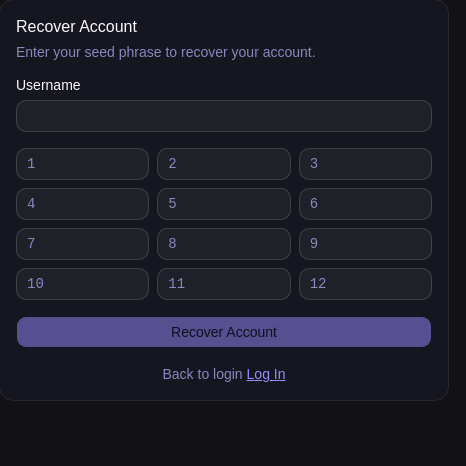
Test: RecoverPage › step 1 submit with wrong mnemonic shows error below MnemonicInput
Type "testuser" into the field labelled "Username".
click(224, 116); type("testuser")  # box x1=16 y1=100 x2=432 y2=132
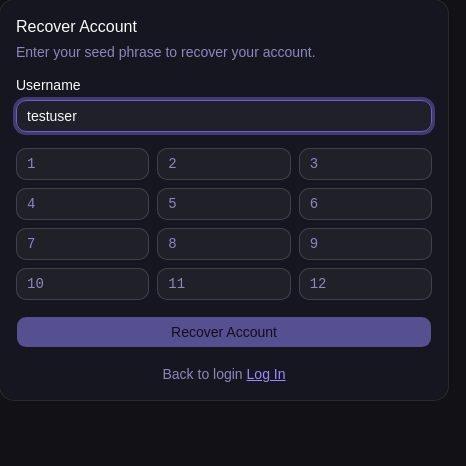
Click the field with placeholder "1".
click(83, 164)  # box x1=16 y1=148 x2=149 y2=180
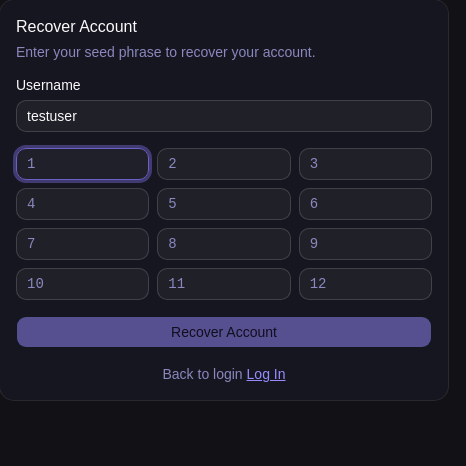
Type keys "abandon ability able about above absent absorb abstract absurd abuse access accident"
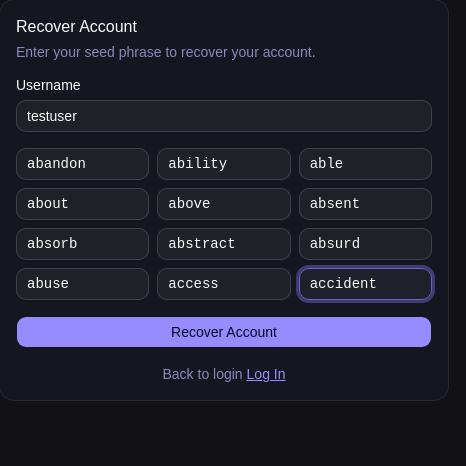
Result: the button "Recover Account" is enabled
Click the button "Recover Account".
click(224, 332)  # box x1=16 y1=316 x2=432 y2=348
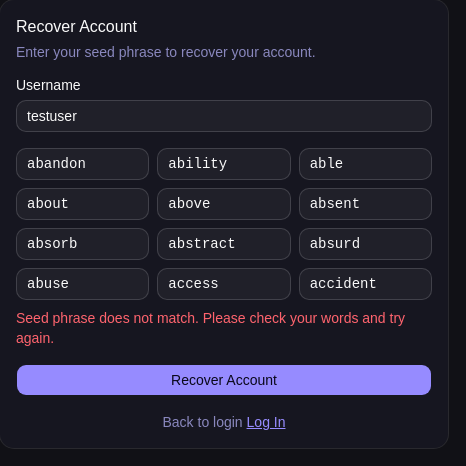
Result: the text "Seed phrase does not match. Please check your words and try again." is shown at x1=16 y1=308 x2=432 y2=348
